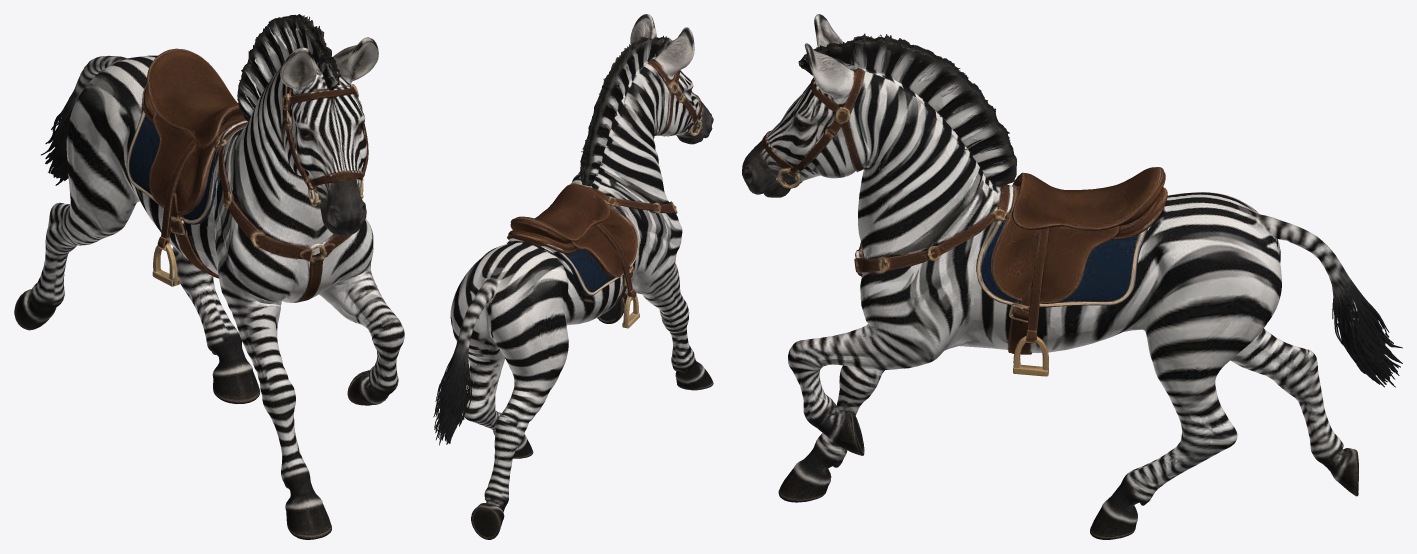
The model's file is zebra.glb.
The picture shows the model from 3 angles, left to right: view 1: azimuth 30°, elevation 25°; view 2: azimuth 150°, elevation 25°; view 3: azimuth 270°, elevation 25°; orthographic projection. The views are drawn at different scales.
Bounding box in the file's own units: 0.5067 × 1.53 × 1.9.
Materials: 1 (1 with a texture image).
